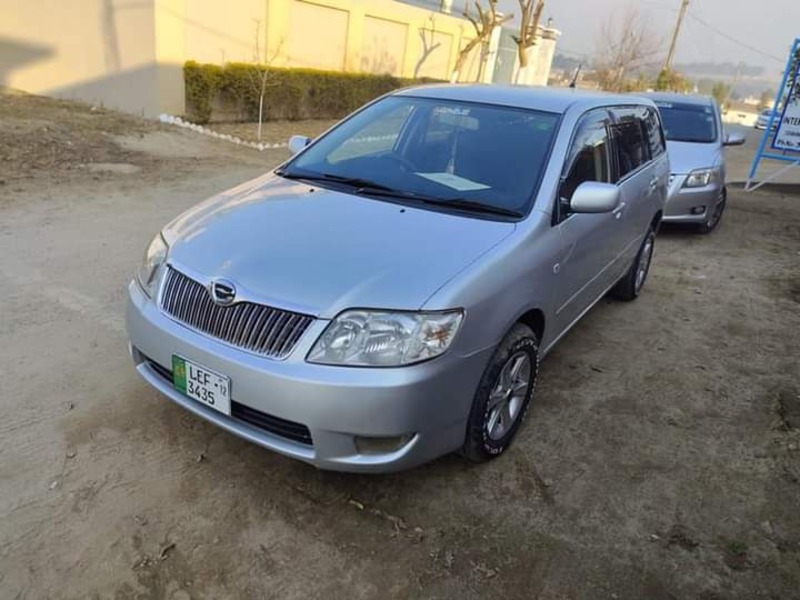License Plate: (164, 349, 238, 419)
